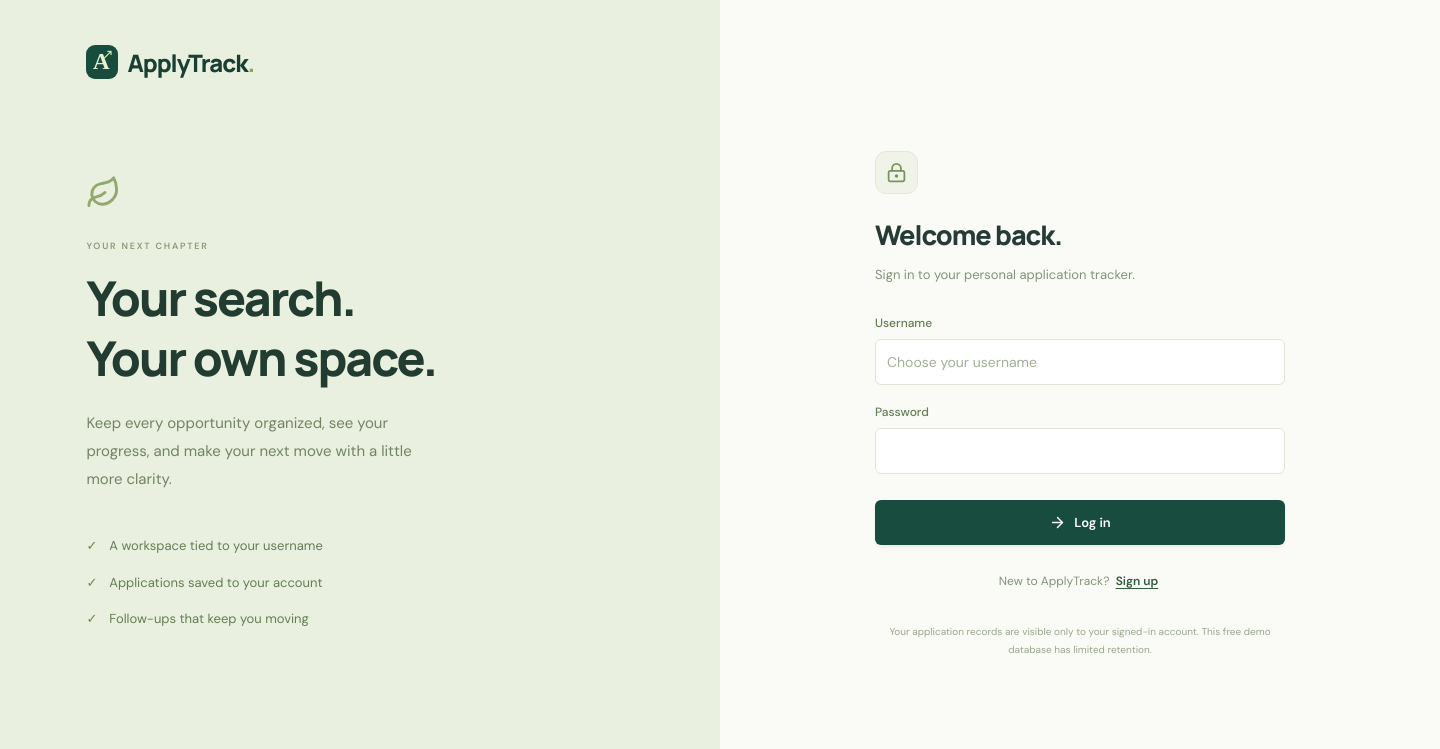
registers, displays username, and logs out to a clean entry screen
The image size is (1440, 749).
Expected: the heading "Welcome back." is shown, [875,216,1062,253]
Click the button "Sign up" at (1137, 582), box [1113,569,1161,595]
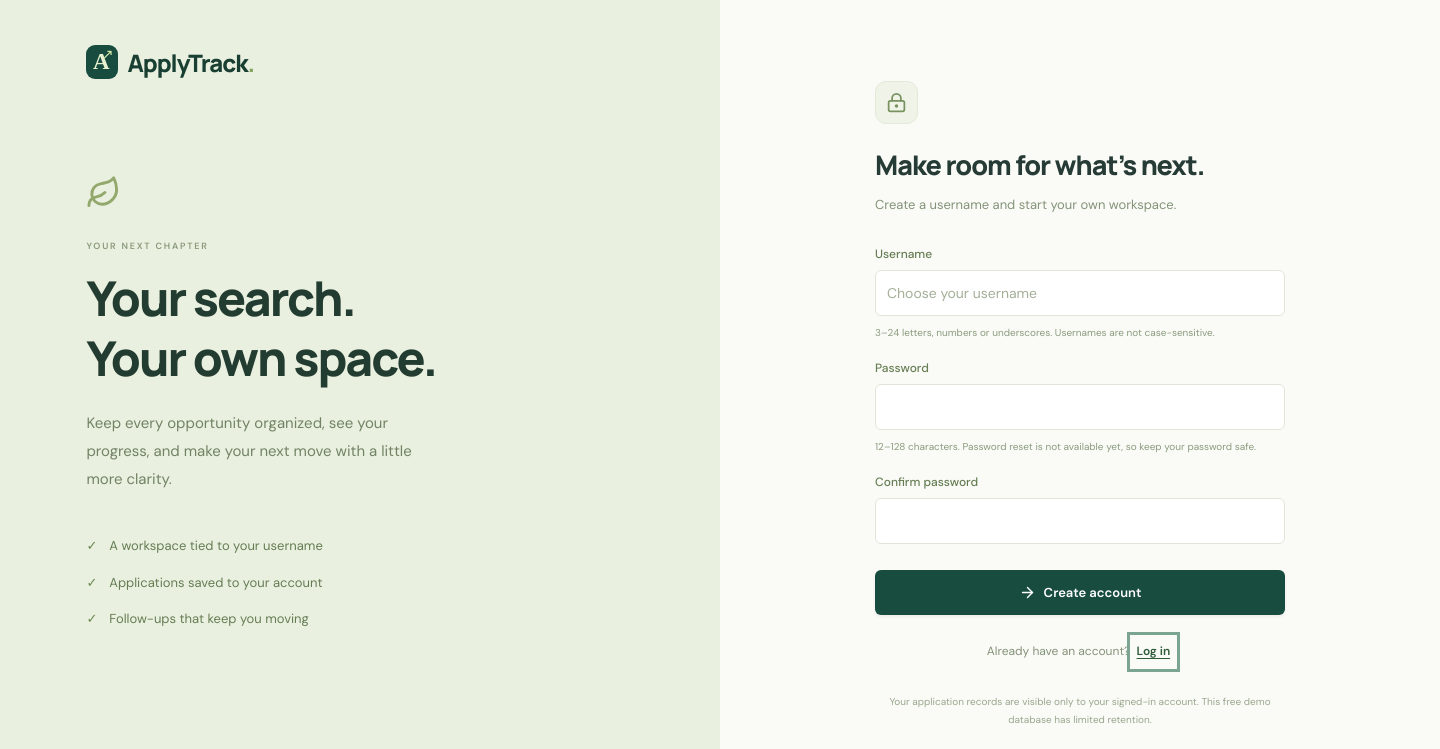
Type "Alice" into the field labelled "Username" at (1080, 293), box [875,270,1285,316]
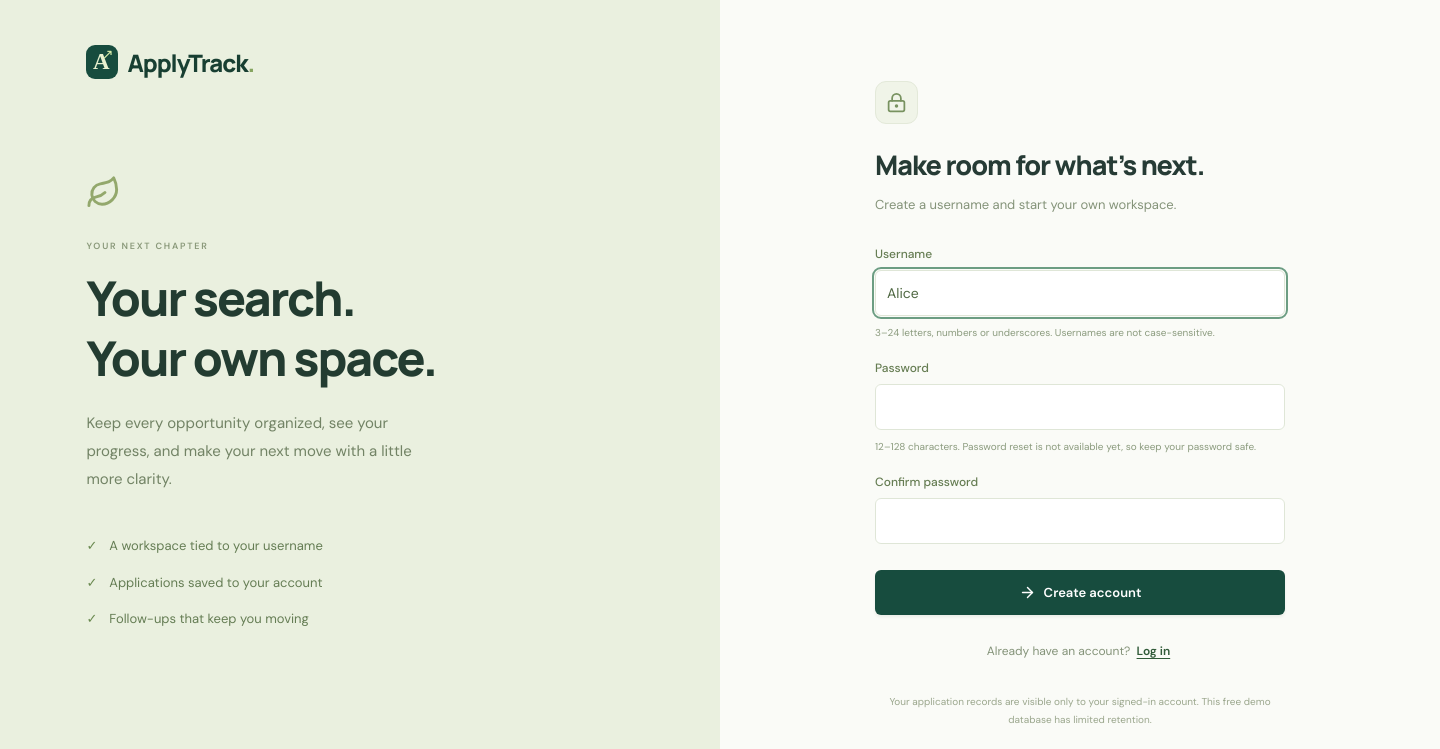
Type "Disposable-password-123!" into the password field labelled "Password" at (1080, 407), box [875,384,1285,430]
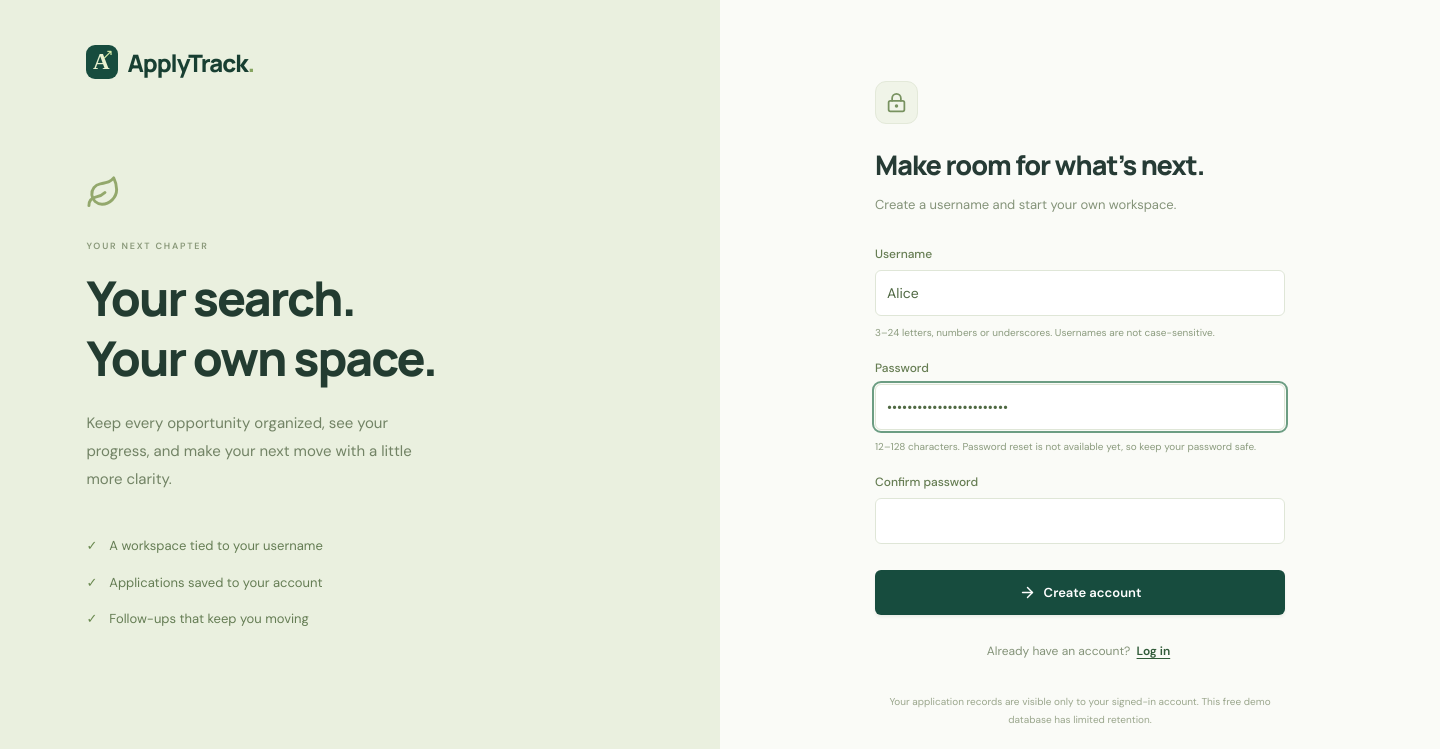
Type "Disposable-password-123!" into the password field labelled "Confirm password" at (1080, 521), box [875,498,1285,544]
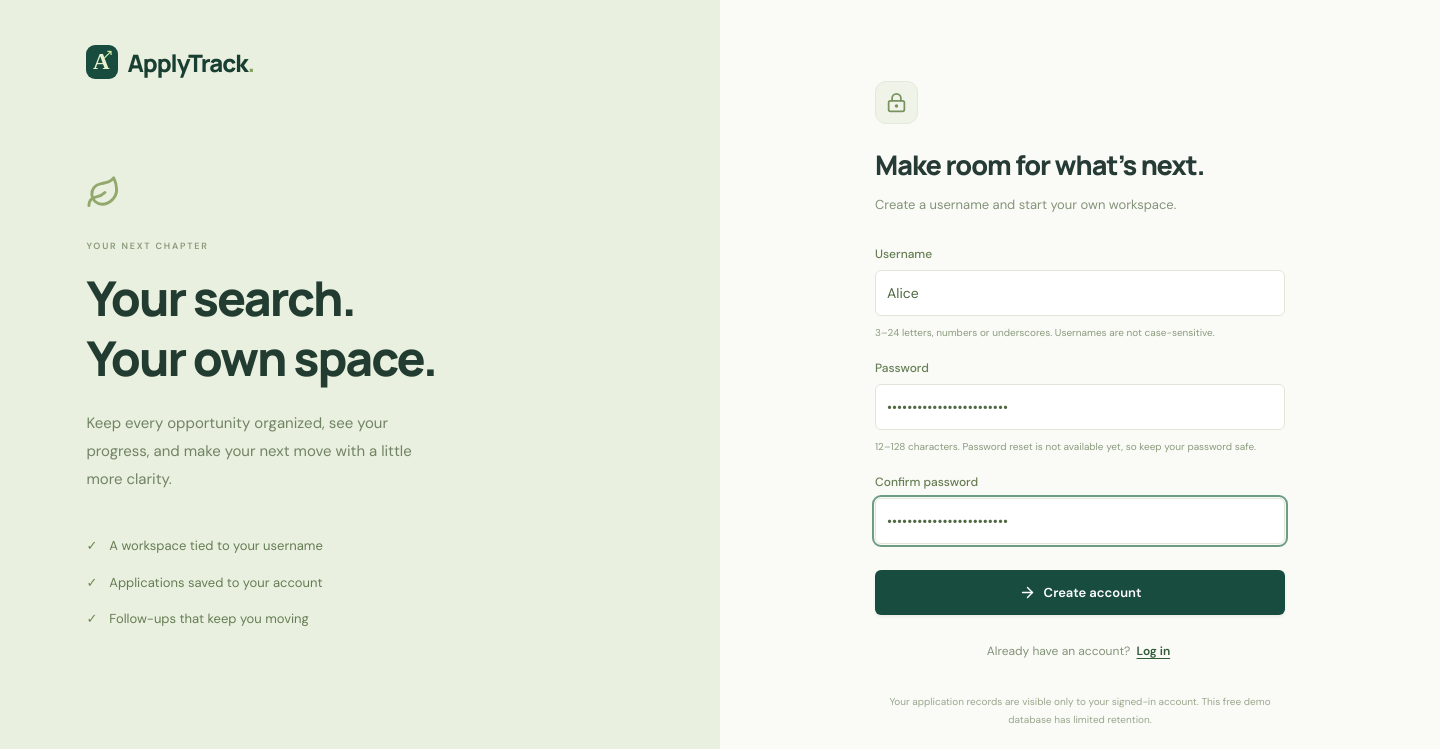
Click the button "Create account" at (1080, 592), box [875,570,1285,615]
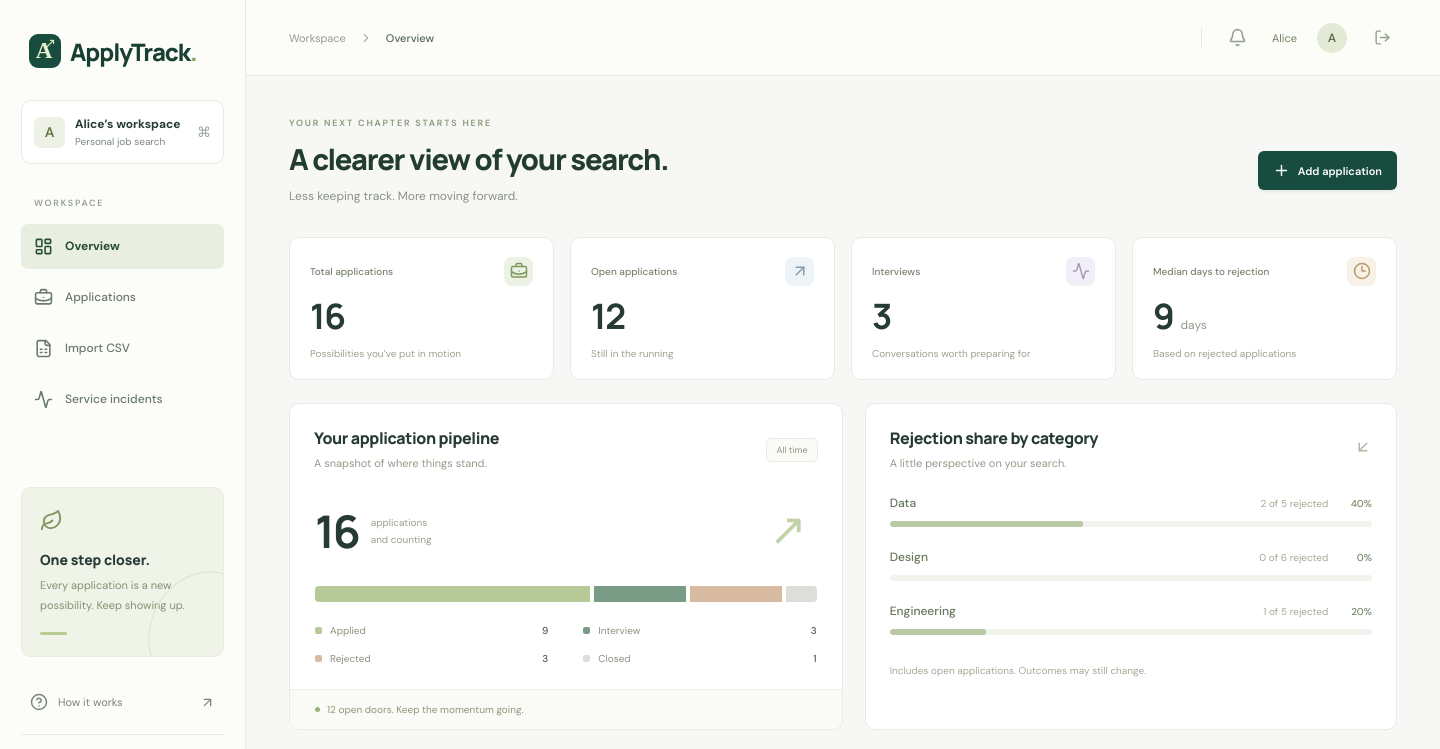
Now the text named "Signed in as Alice" is shown, box [1317,22,1347,52]
Now the heading "Your application pipeline" is shown, box [314,427,499,449]
Click the button named "Log out" at (1382, 38), box [1367,22,1397,52]
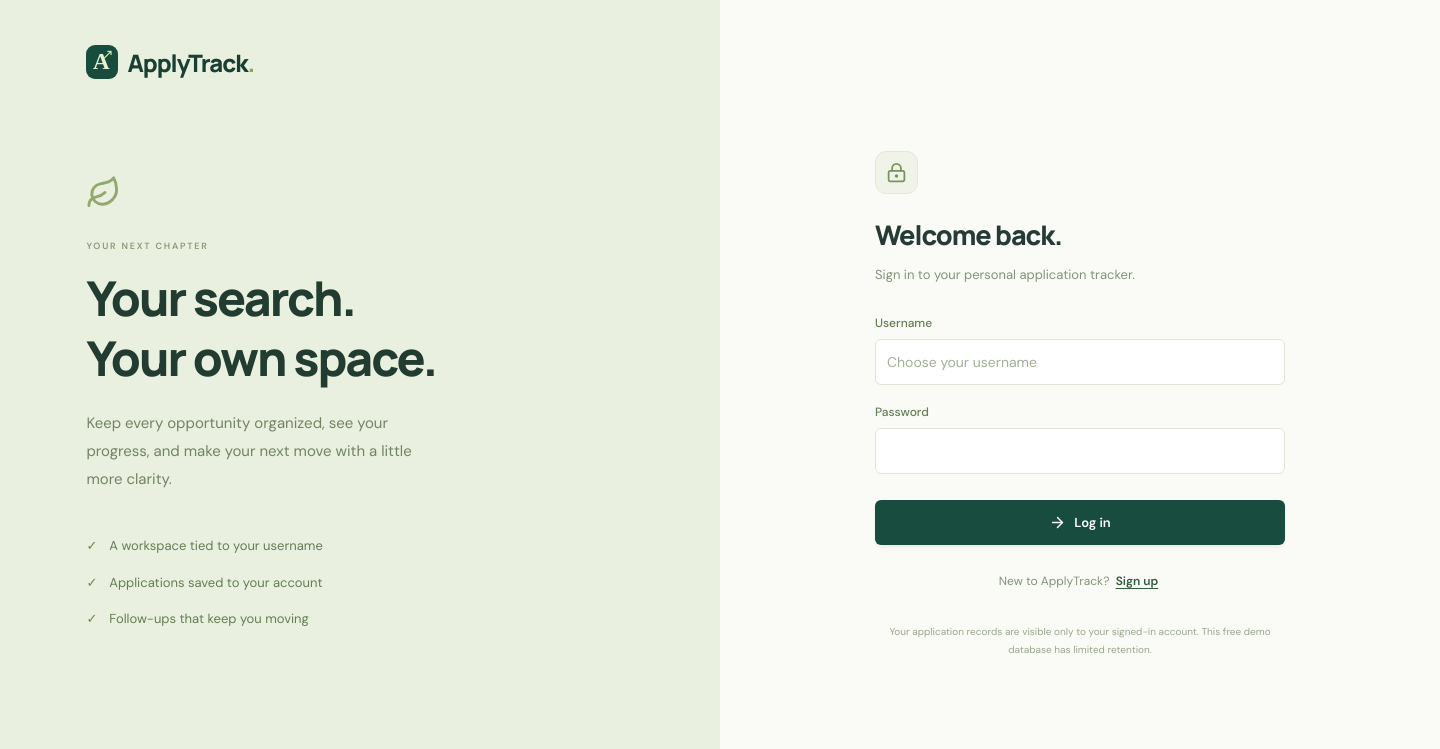
Now the heading "Welcome back." is shown, box [875,216,1062,253]
